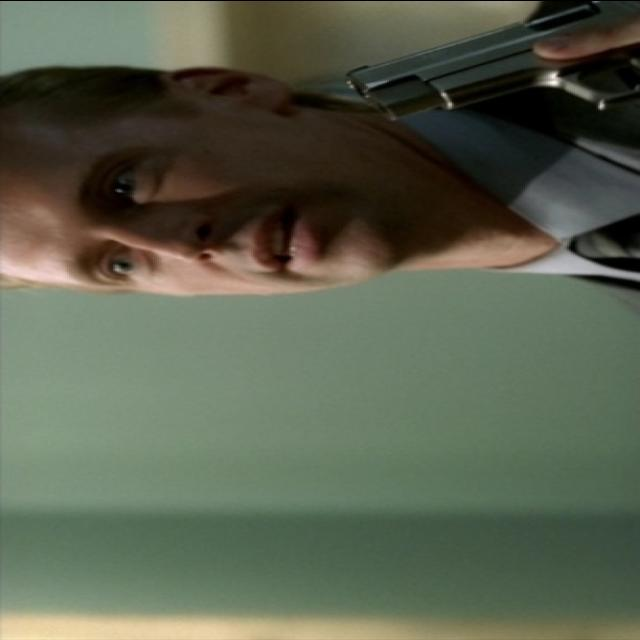weapons: (325, 2, 640, 142)
